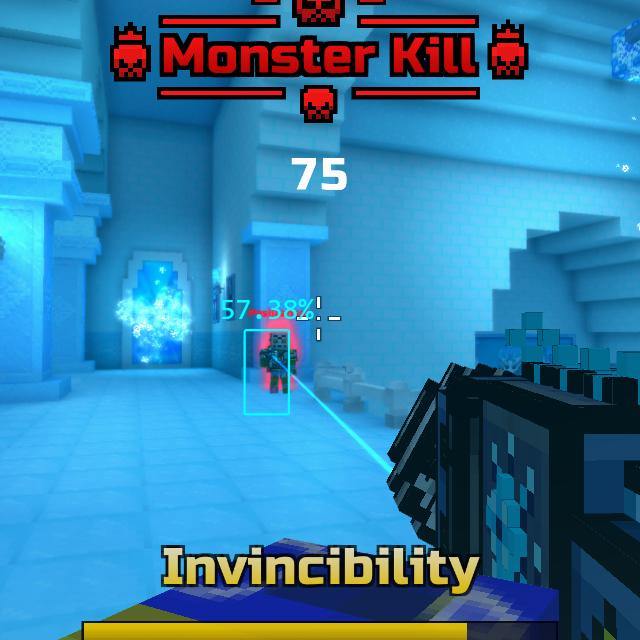Enemy: (258, 328, 297, 393)
